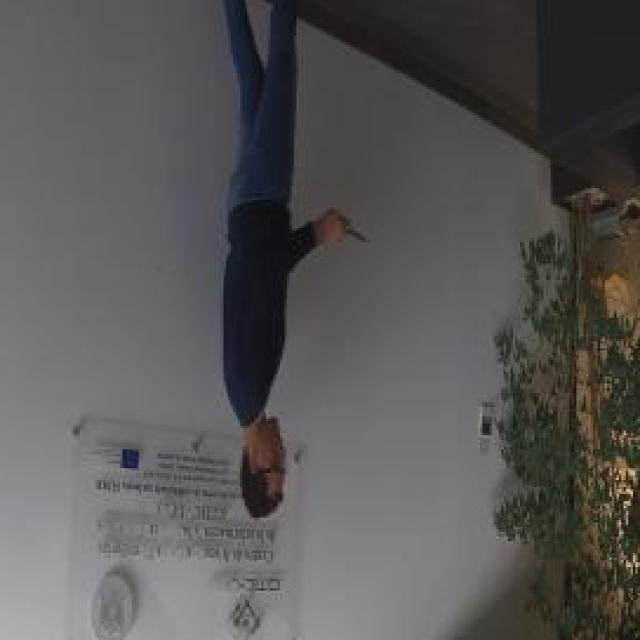knife: (332, 207, 372, 252)
